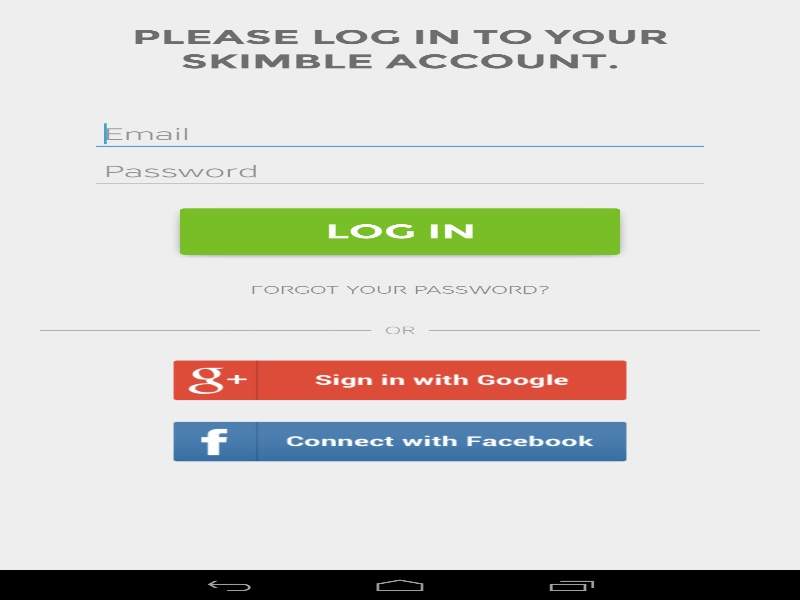Button: (26, 274, 773, 304)
Input: (90, 117, 709, 151), (90, 154, 709, 188)
